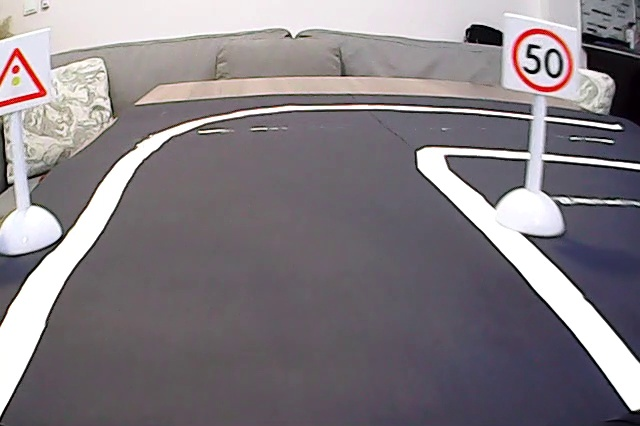red light: (1, 45, 51, 109)
speed limit 50: (509, 25, 576, 98)
